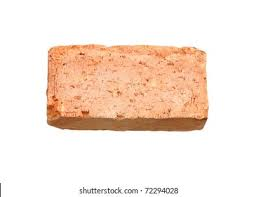brick: (48, 45, 206, 131)
